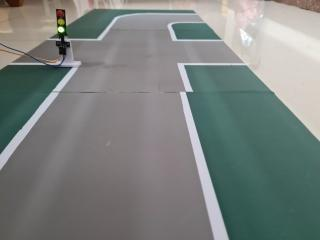green: (50, 5, 71, 40)
